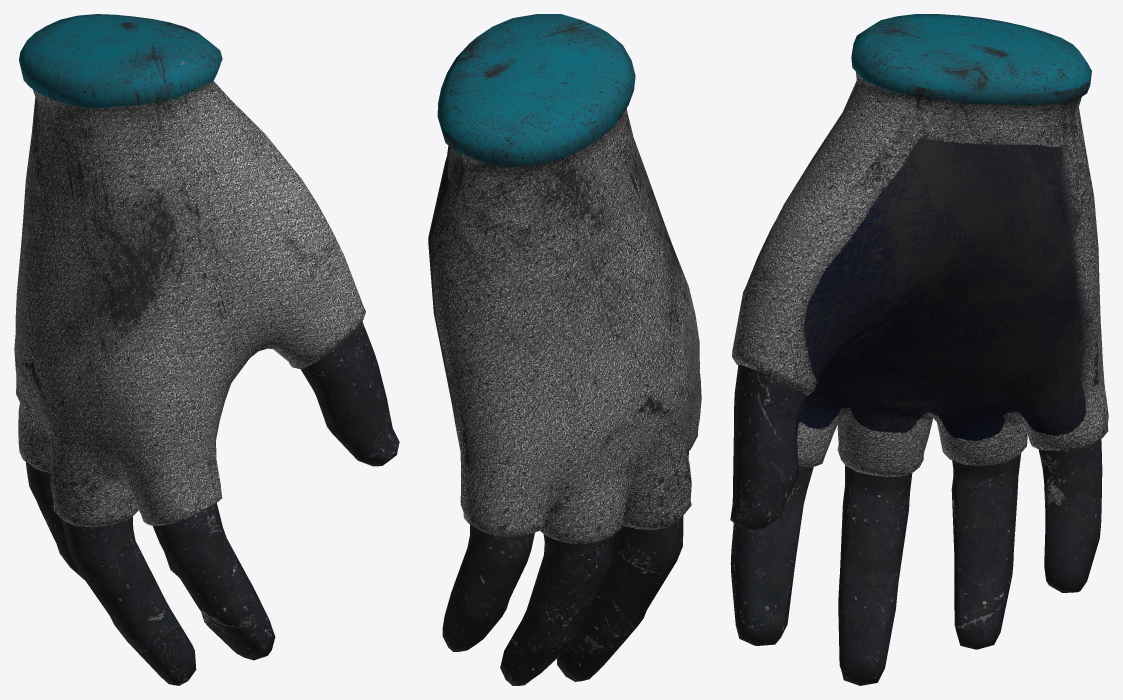
The model's file is vr_hand.glb.
3 renders of one model, left to right at view 1: azimuth 30°, elevation 25°; view 2: azimuth 150°, elevation 25°; view 3: azimuth 270°, elevation 25°, orthographic. The views are drawn at different scales.
Visible parts, largest first — view 1: Golves_low, Rhand; view 2: Golves_low, Rhand; view 3: Golves_low, Rhand.
Boxes of the visible parts, bbox=[...] form: Golves_low: bbox=[14, 14, 365, 527]; Rhand: bbox=[26, 321, 399, 685]; Golves_low: bbox=[428, 14, 701, 544]; Rhand: bbox=[442, 451, 688, 685]; Golves_low: bbox=[732, 14, 1108, 476]; Rhand: bbox=[730, 364, 1102, 685].
Bounding box in the file's own units: 4.88 × 10.35 × 5.45.
Materials: 2 (2 with a texture image).
